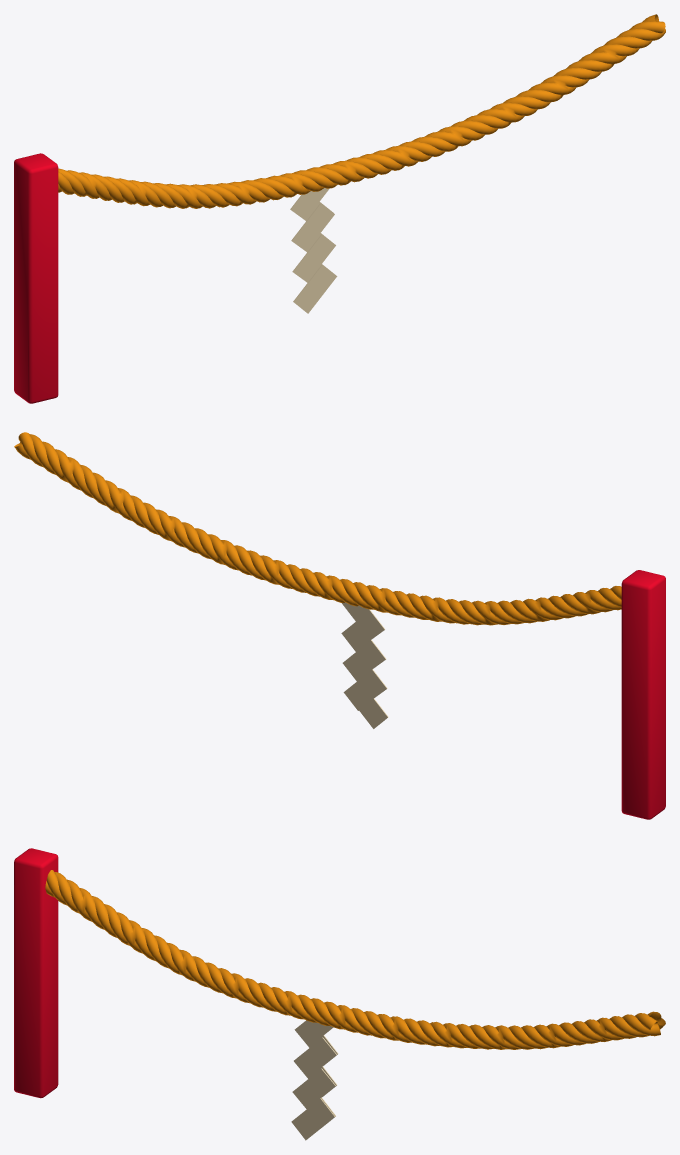
File: FenceLength1.fbx
3 renders of one model, top to bottom at view 1: azimuth 30°, elevation 25°; view 2: azimuth 150°, elevation 25°; view 3: azimuth 330°, elevation 25°, orthographic.
Visible parts, largest first — view 1: Fence; view 2: Fence; view 3: Fence.
Part boxes in pixels (<box>): Fence: <box>14,14,665,403</box>; Fence: <box>14,432,665,819</box>; Fence: <box>14,848,665,1140</box>.
Bounding box in the file's own units: 178 × 61.97 × 8.28.
